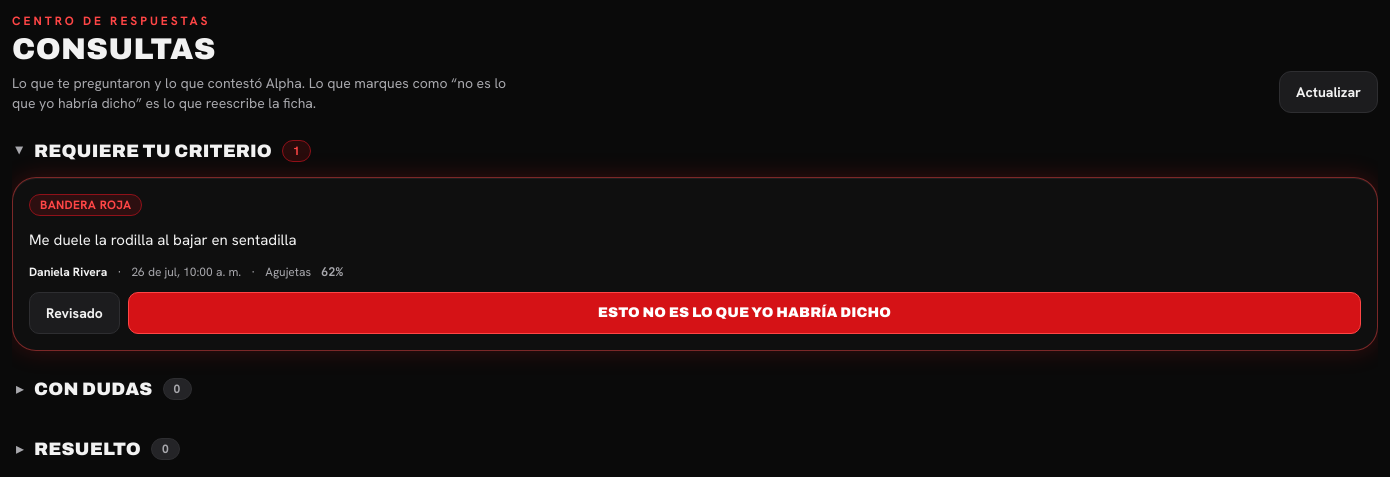
Scenario: ConsultasPage › marcar solo revisado no marca corregido
Click the button "Revisado" at (74, 313), box left=29, top=292, right=120, bottom=334
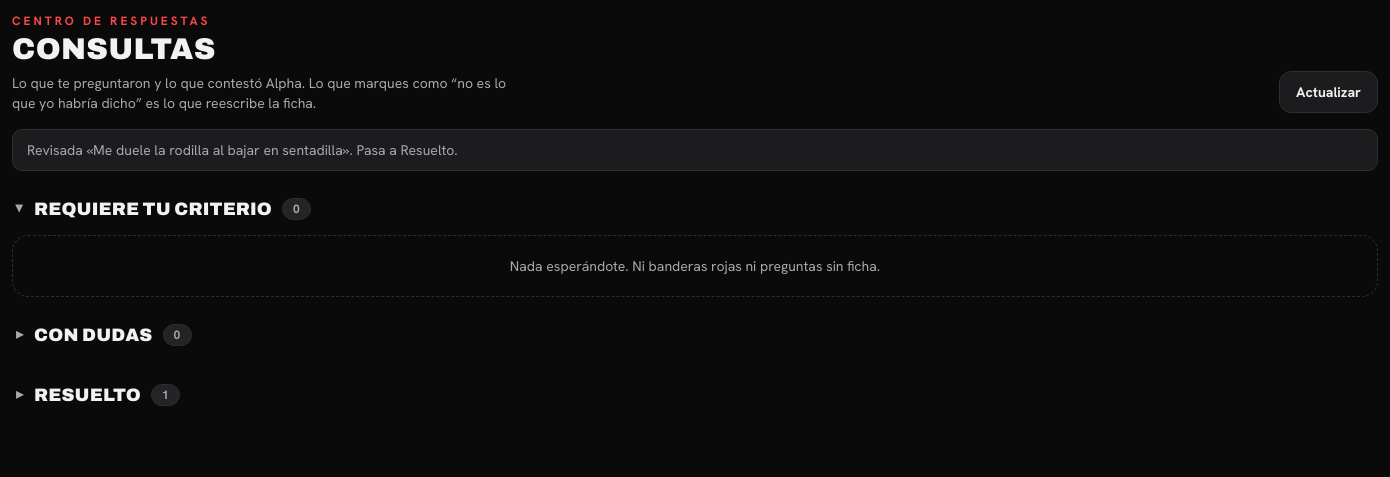
Expected: the message shows "Revisada", left=27, top=141, right=458, bottom=159
